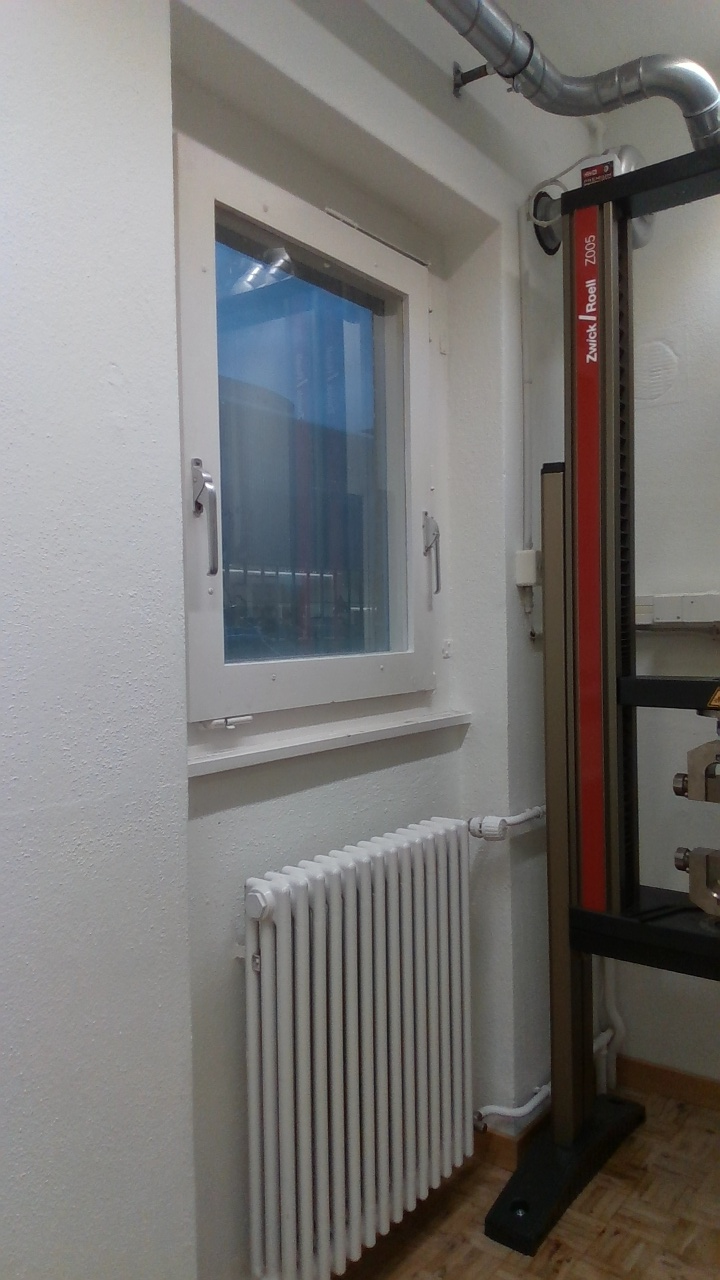Knob_Radiator: (462, 805, 511, 850)
Radiator: (230, 800, 515, 1280)
